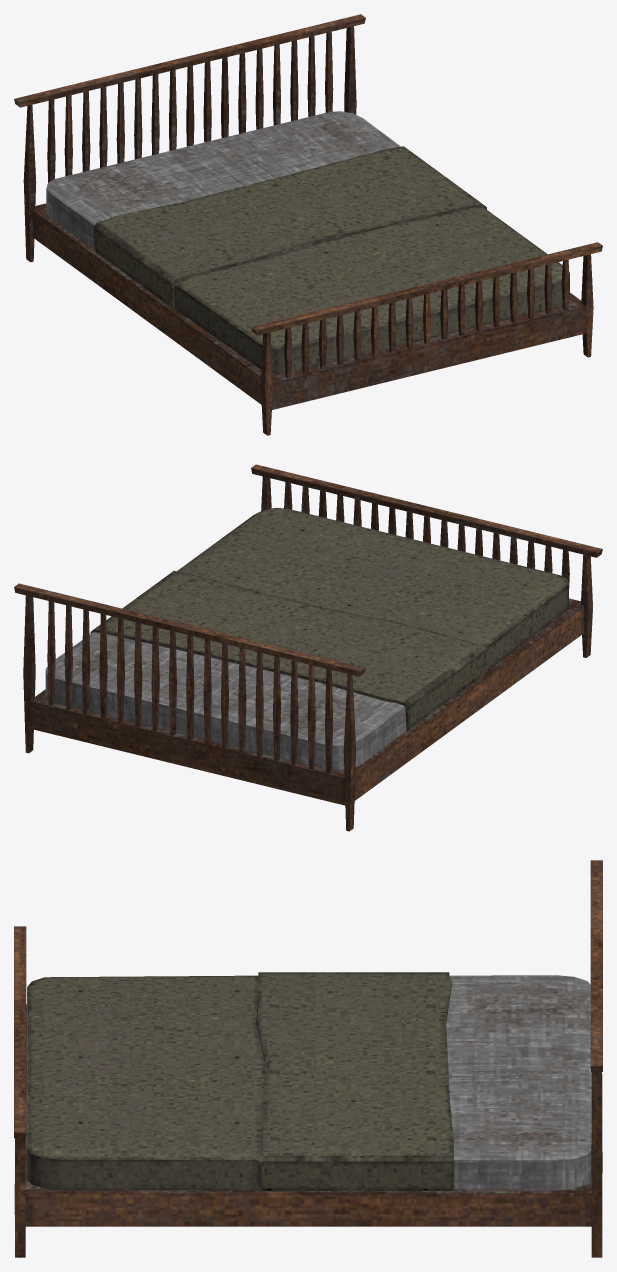
File: Bed.fbx
3 views of the same model, one above another, from view 1: azimuth 30°, elevation 25°; view 2: azimuth 150°, elevation 25°; view 3: azimuth 270°, elevation 25° (orthographic). The views are drawn at different scales.
Parts seen in each view (by area): view 1: Bed; view 2: Bed; view 3: Bed.
Part boxes in pixels (x1=…): Bed: x1=14, y1=14, x2=602, y2=435; Bed: x1=14, y1=464, x2=602, y2=831; Bed: x1=14, y1=860, x2=602, y2=1257.
Size of the model in its own units: 242 by 200 by 89.75.
